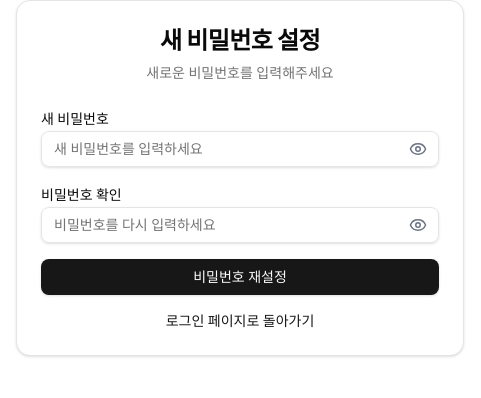
Test case: ResetPasswordForm › shows password strength indicator
This screenshot has width=481, height=398.
# Weak password
Type "weak" into the password field labelled "새 비밀번호".
click(240, 149); type("weak")  # box [41,131,439,167]
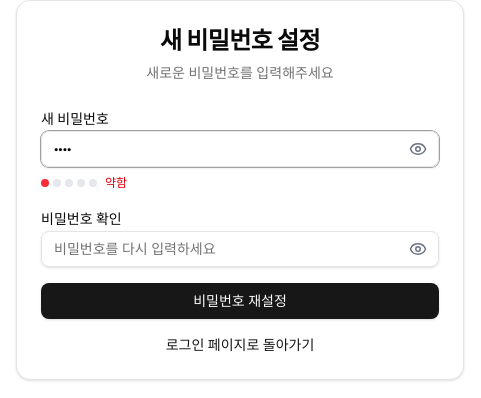
Check: the text "약함" is shown, box [105,175,127,191]
# Clear and type strong password
Type "StrongPassword123!" into the password field labelled "새 비밀번호".
click(240, 149); type("StrongPassword123!")  # box [41,131,439,167]
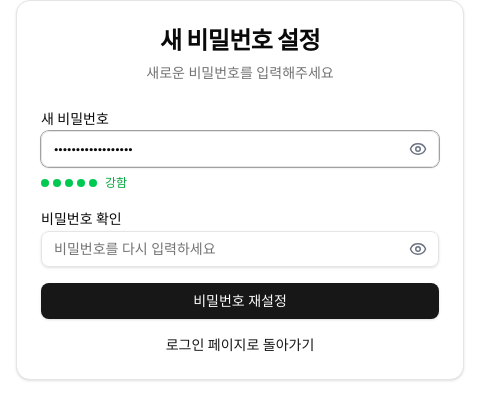
Check: the text "강함" is shown, box [105,175,127,191]
